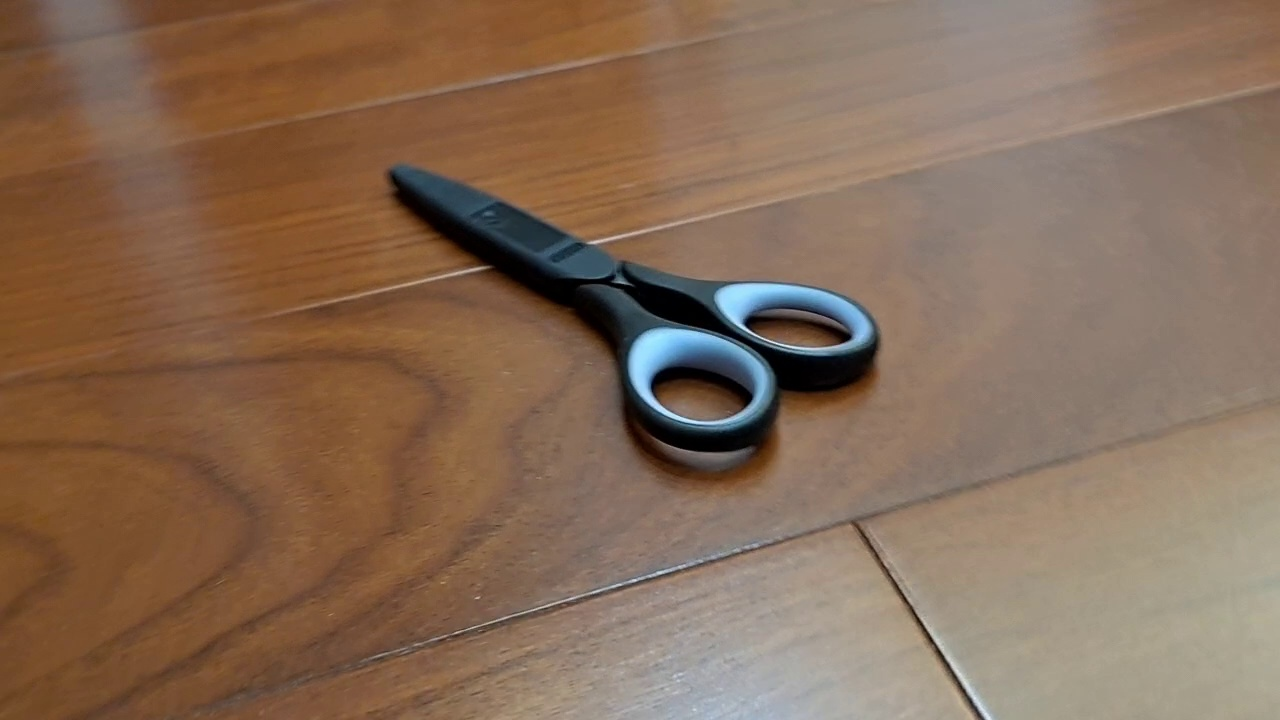scissors: (385, 161, 882, 454)
